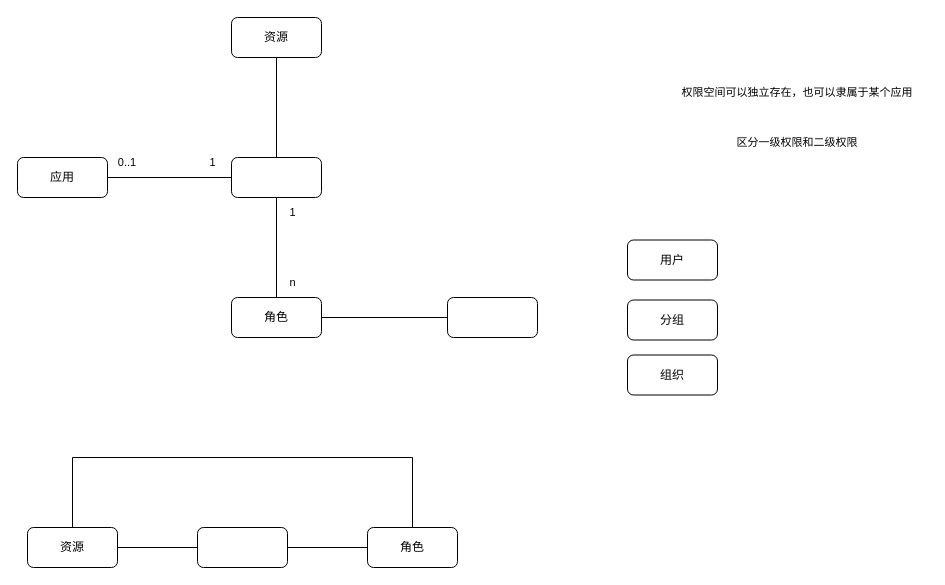
Some shapes in this 945 by 585 pixel diagram are drawn without their labels. Here are the shapes that lost their labels. From the top down, the centre of each, then its label:
(x=276, y=177): 权限空间
(x=492, y=317): 主体
(x=242, y=547): 权限
